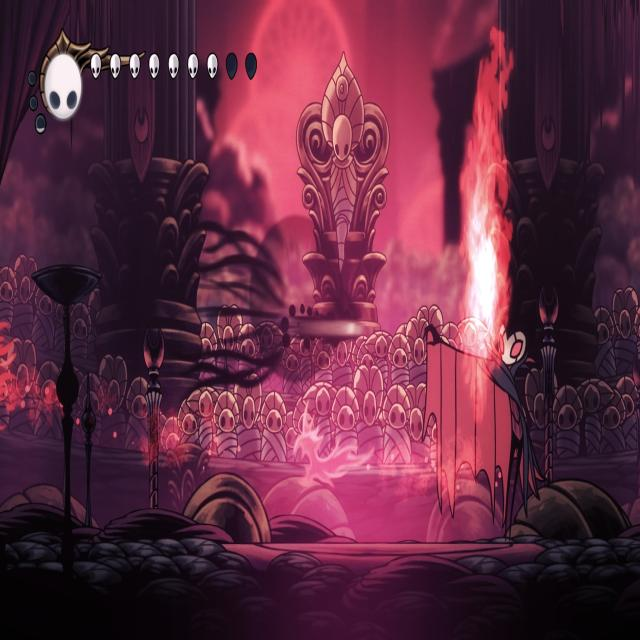Fire Bat: (0, 288, 18, 387)
Open Cloak: (418, 298, 549, 545)
Player: (305, 279, 362, 358)
